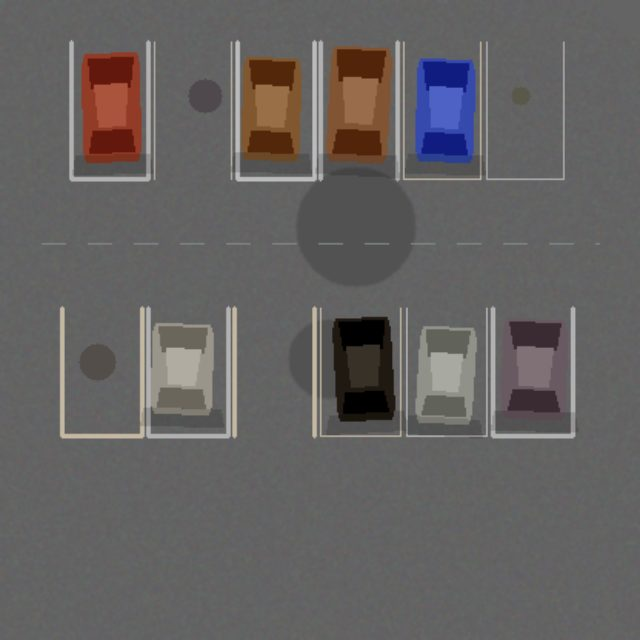space-empty: (154, 42, 231, 178), (486, 42, 563, 178), (62, 308, 142, 435), (234, 308, 314, 435)
space-occupied: (71, 42, 148, 178), (237, 42, 314, 178), (320, 42, 397, 178), (403, 42, 480, 178), (148, 308, 228, 435), (320, 308, 400, 435), (406, 308, 486, 435), (492, 308, 572, 435)
